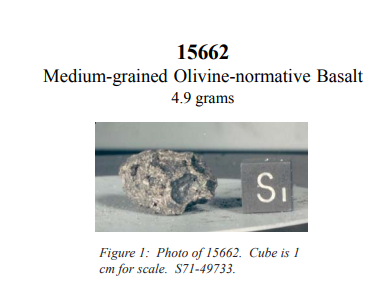Basalt: (106, 122, 223, 221)
